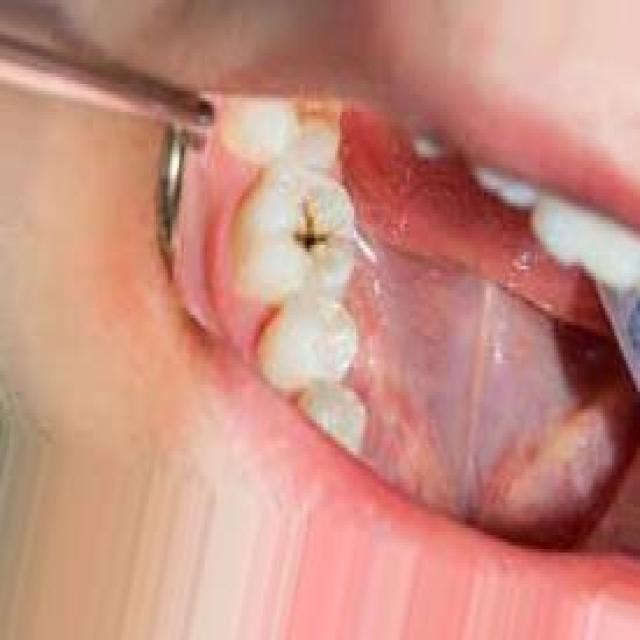caries: (278, 179, 342, 279)
